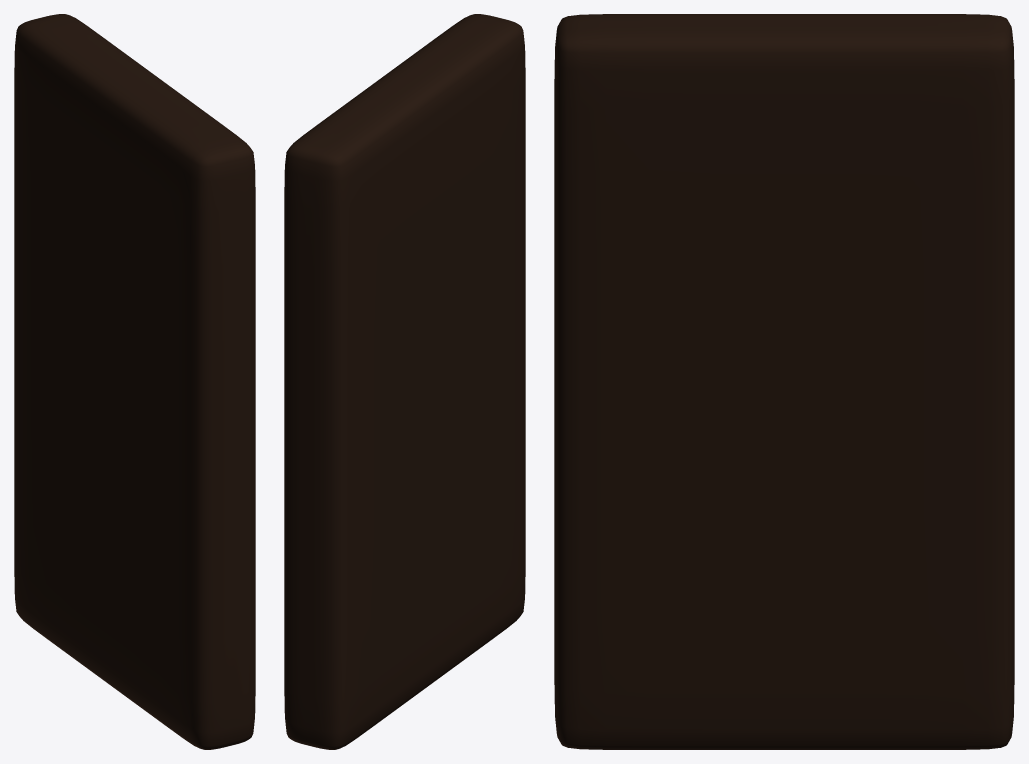
File: wall_paneling.obj
3 views of the same model, side by side, from view 1: azimuth 30°, elevation 25°; view 2: azimuth 150°, elevation 25°; view 3: azimuth 270°, elevation 25° (orthographic). The views are drawn at different scales.
Parts seen in each view (by area): view 1: Cube.053; view 2: Cube.053; view 3: Cube.053.
Part boxes in pixels (x1=…): Cube.053: x1=14, y1=14, x2=255, y2=749; Cube.053: x1=284, y1=14, x2=525, y2=749; Cube.053: x1=554, y1=14, x2=1014, y2=749.
Bounding box in the file's own units: 0.1359 × 1.22 × 0.7146.
